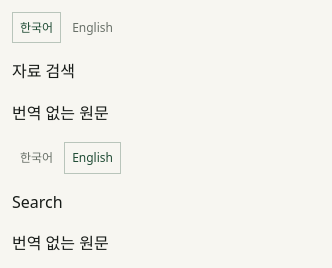
does not change another mounted visitor context when one visitor switches language
Click the 2nd button "한국어".
click(37, 158)  # box [12,142,61,174]
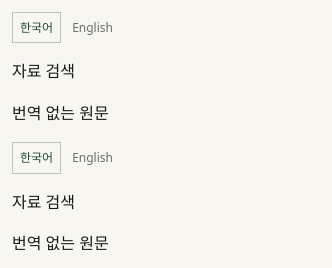
Click the 1st button "English".
click(92, 28)  # box [64,12,121,43]
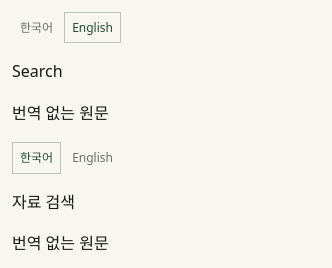
Check: the text "자료 검색" is shown, box [12,191,75,213]
Check: the text "Search" is shown, box [12,60,63,82]
